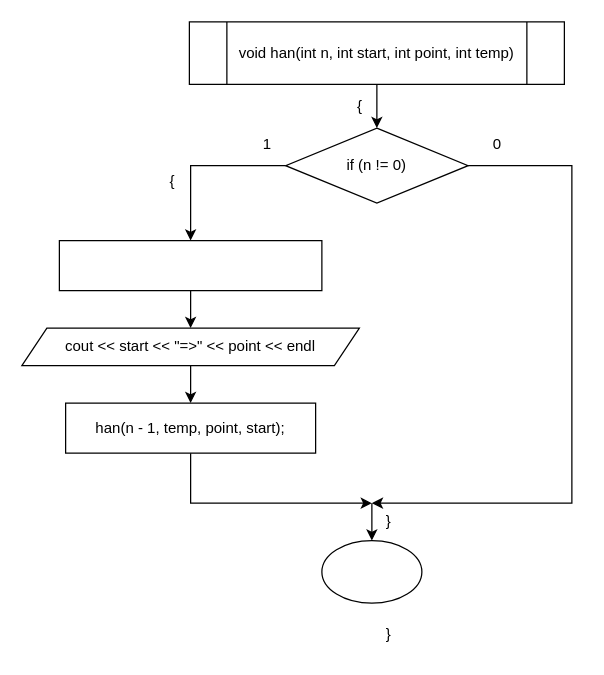
Some shapes in this 604 by 675 pixel diagram are drawn without their labels. The centre of each missing label's shape, as x and y in pixels:
"han(n - 1, start, temp, point);" goes at pixel 190 265.
"return;" goes at pixel 371 571.
